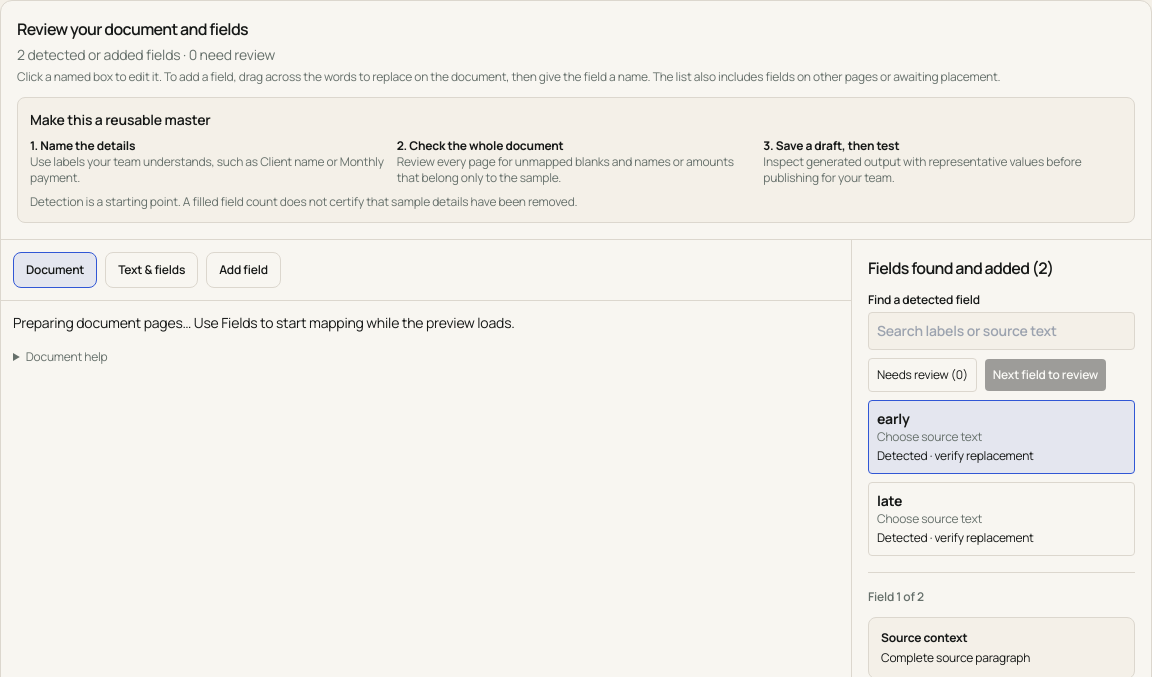
Test: shows source paragraph context and honestly explains a truncated outline
Expected: the text "Complete source paragraph" is shown, [881,649,1030,666]
Click the button with aria-label "Select late". click: (930, 518)
box: [868,482,1135,556]
(page scrolled)
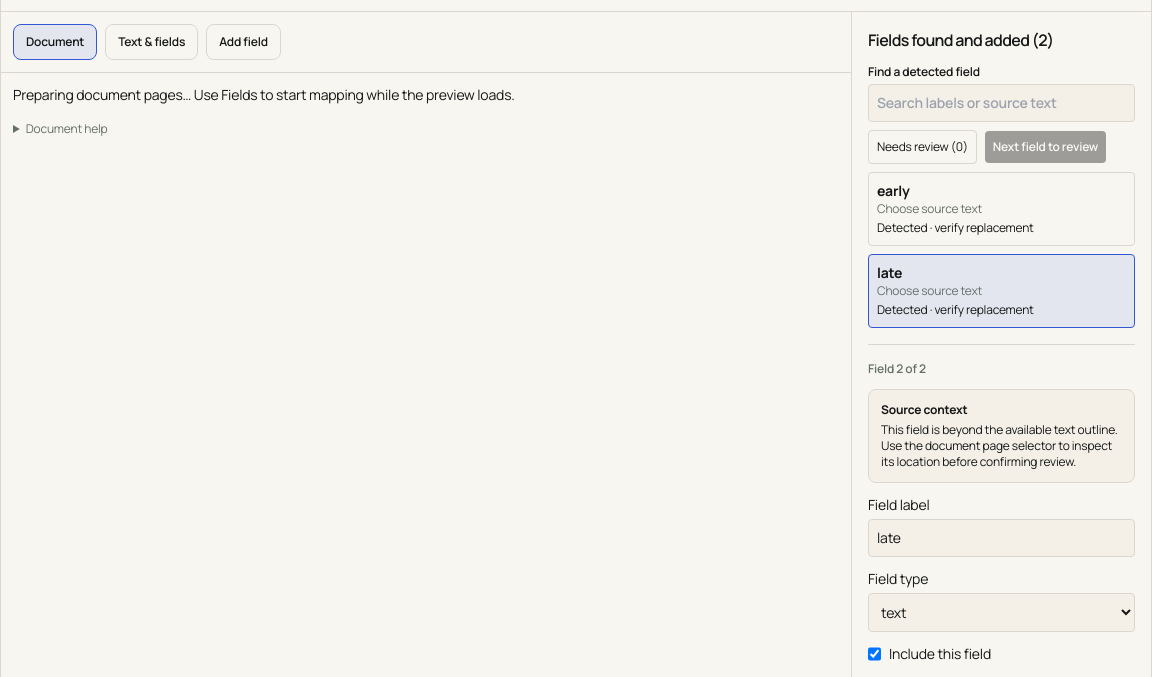
Result: the text "beyond the available text outline" is shown at [881,421,1120,470]
